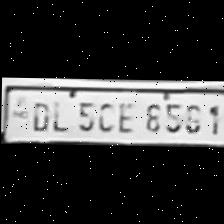1: (203, 101, 223, 135)
5: (69, 96, 94, 132), (160, 99, 182, 133)
8: (139, 98, 161, 133)
9: (182, 100, 202, 133)
C: (93, 97, 113, 132)
D: (26, 98, 48, 132)
E: (112, 97, 134, 132)
L: (47, 96, 69, 132)
